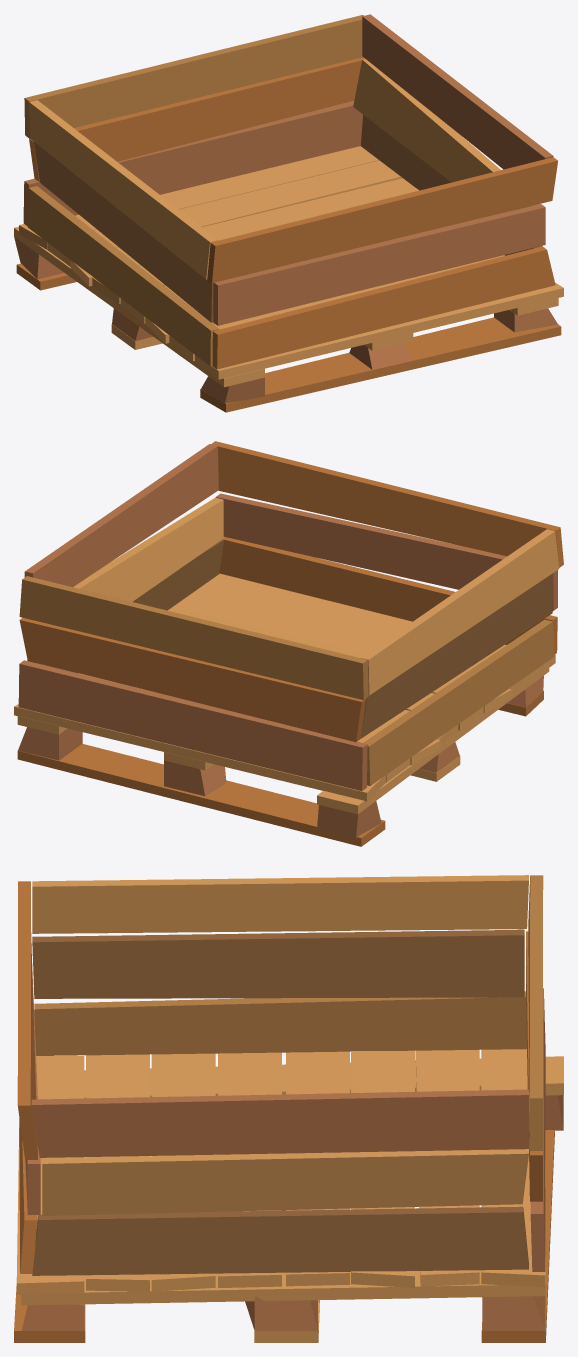
Rendered from PaletCajaUV.fbx.
3 renders of one model, top to bottom at view 1: azimuth 30°, elevation 25°; view 2: azimuth 150°, elevation 25°; view 3: azimuth 270°, elevation 25°, orthographic. The views are drawn at different scales.
Parts seen in each view (by area): view 1: Cube.010; view 2: Cube.010; view 3: Cube.010.
Part boxes in pixels (x1,y1,x2,y2): Cube.010: (14, 14, 563, 412); Cube.010: (14, 441, 563, 846); Cube.010: (14, 875, 563, 1342).
Bounding box in the file's own units: 106 × 52.01 × 105.
